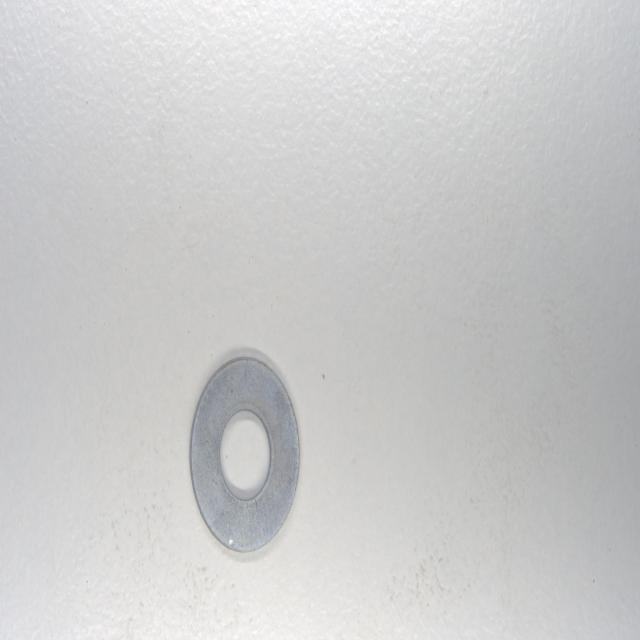washer: (188, 354, 302, 557)
